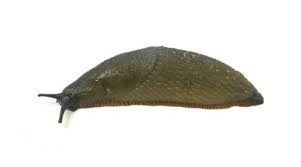slug: (39, 42, 266, 121)
